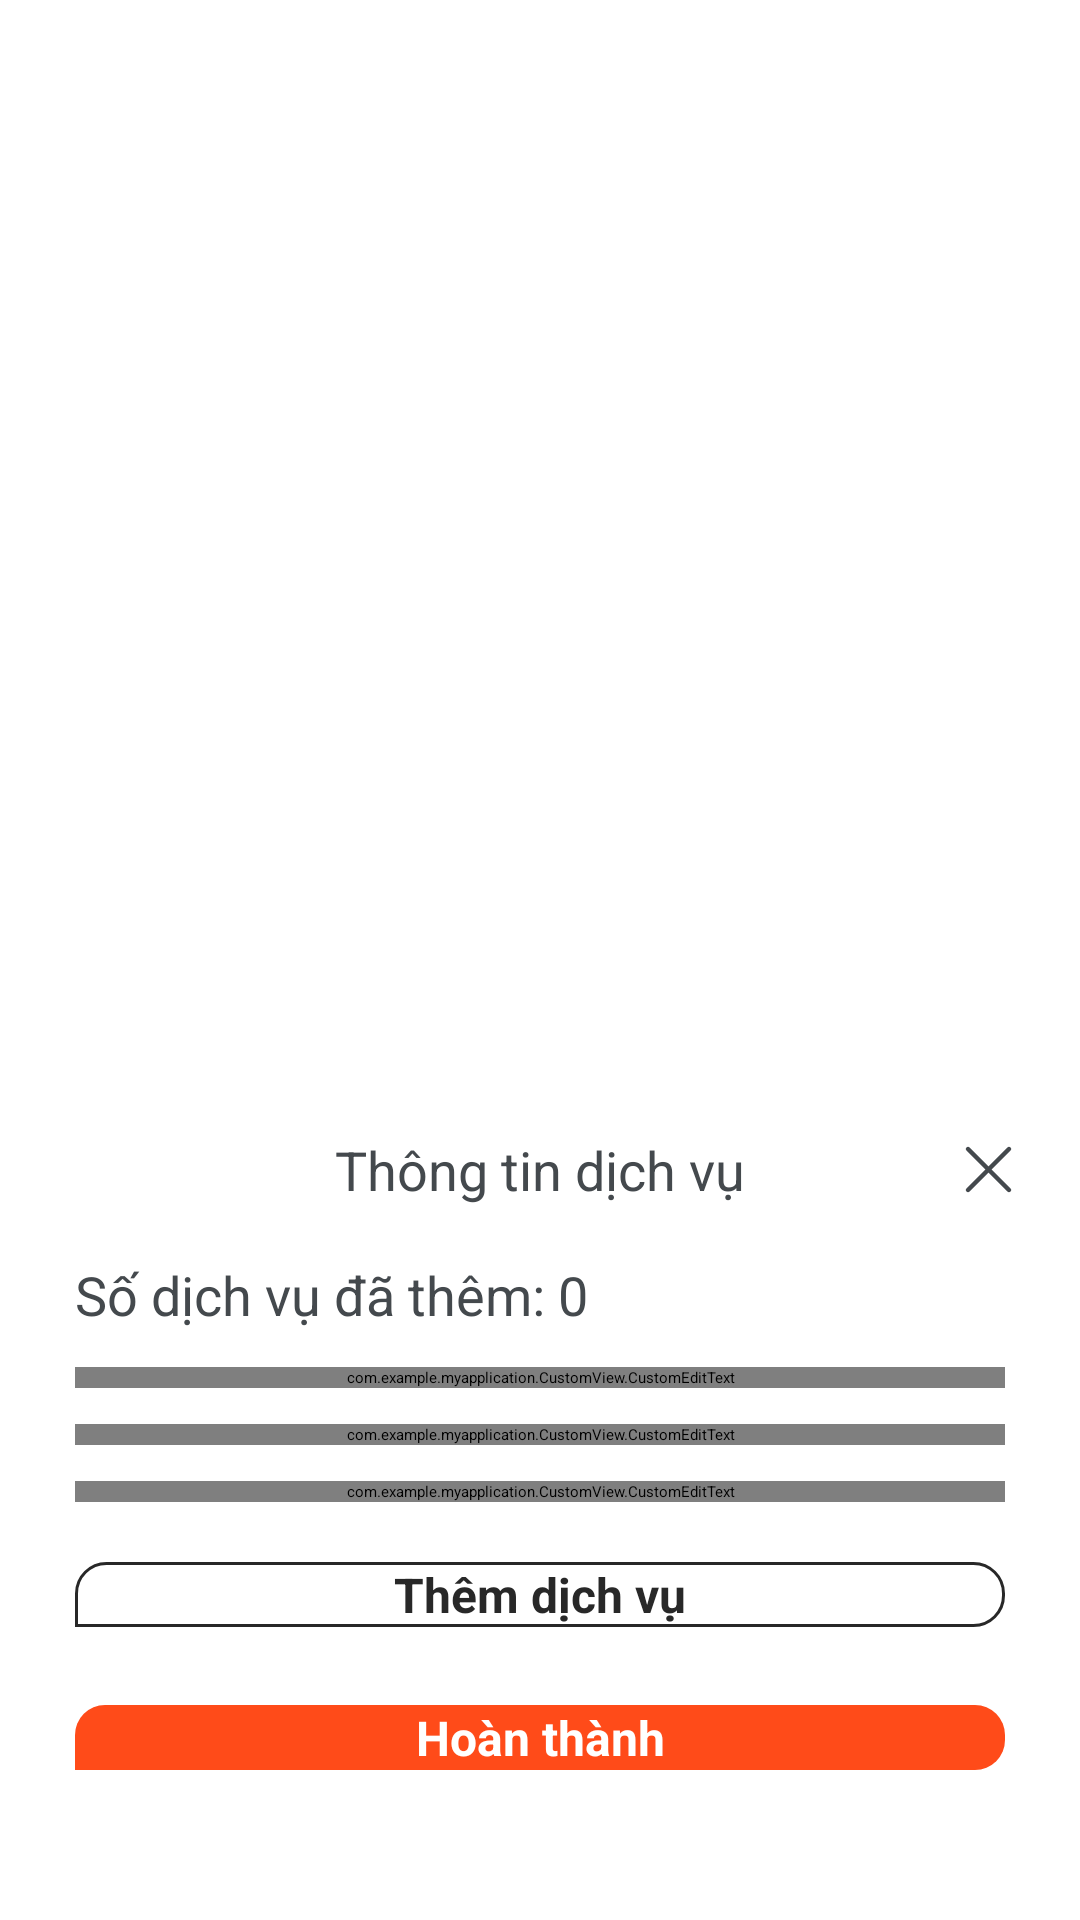

Where icons sit on this 1080w x 1920h app screen, as (x1, y1, x2, y2):
bsim close: (966, 1147, 1011, 1192)
